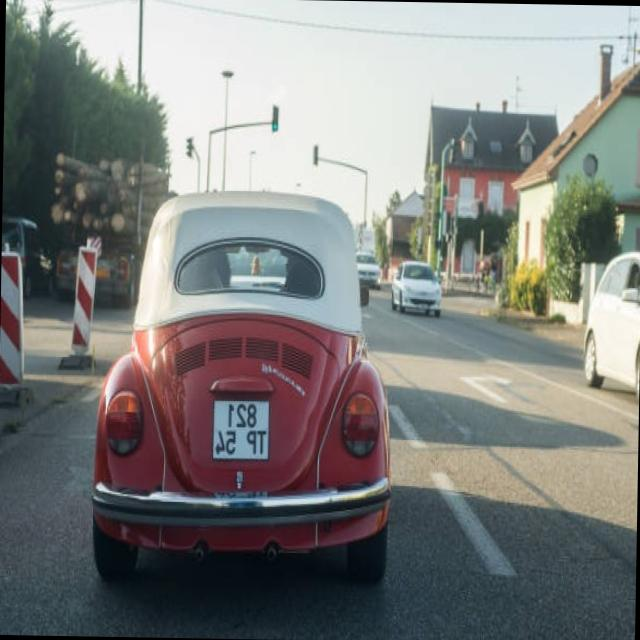car: (90, 184, 377, 574), (585, 264, 640, 389), (390, 258, 446, 314)
